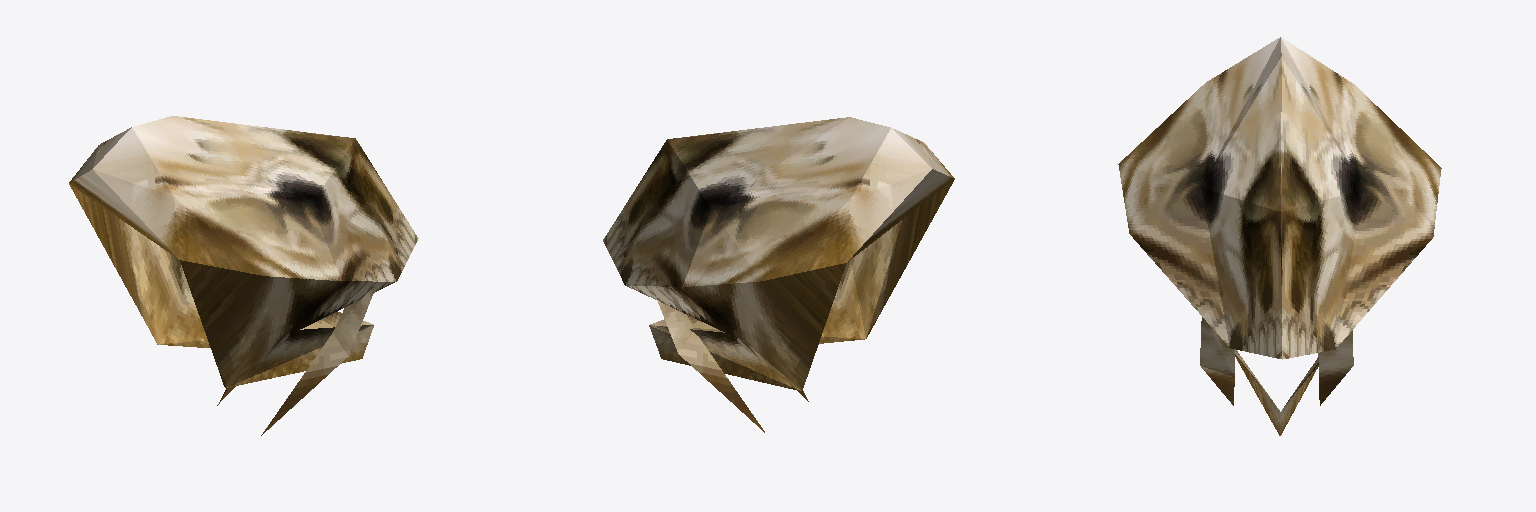
The picture shows the model from 3 angles: view 1: azimuth 30°, elevation 25°; view 2: azimuth 150°, elevation 25°; view 3: azimuth 270°, elevation 25°; orthographic projection.
Parts seen in each view (by area): view 1: tigerskull.m2; view 2: tigerskull.m2; view 3: tigerskull.m2.
Part boxes in pixels (bbox=[...]): tigerskull.m2: bbox=[69, 116, 418, 435]; tigerskull.m2: bbox=[603, 117, 954, 432]; tigerskull.m2: bbox=[1118, 37, 1441, 435].
Size of the model in its own units: 0.6416 by 0.5972 by 0.5477.
1 materials, 1 textured.